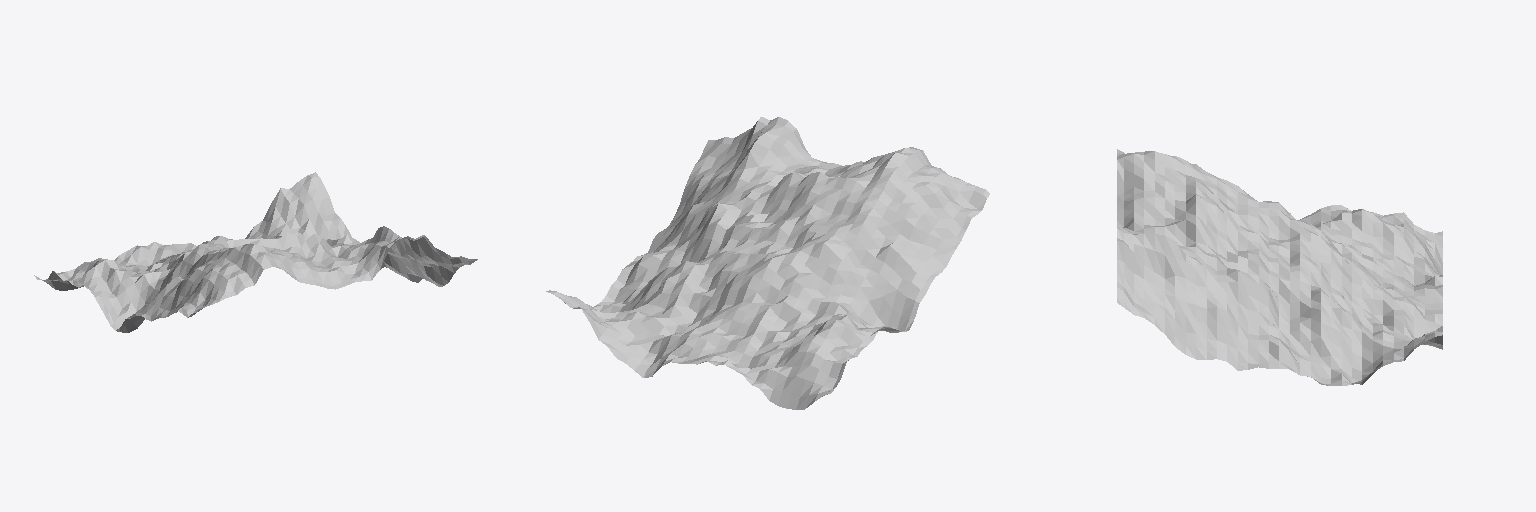
Rendered from terrain_0_-2.obj.
3 renders of one model, left to right at view 1: azimuth 30°, elevation 25°; view 2: azimuth 150°, elevation 25°; view 3: azimuth 270°, elevation 25°, orthographic.
Visible parts, largest first — view 1: terrain_0_-2_Plane.054; view 2: terrain_0_-2_Plane.054; view 3: terrain_0_-2_Plane.054.
Boxes of the visible parts, x1=… form: terrain_0_-2_Plane.054: x1=34, y1=172, x2=477, y2=332; terrain_0_-2_Plane.054: x1=546, y1=117, x2=989, y2=409; terrain_0_-2_Plane.054: x1=1117, y1=149, x2=1442, y2=385.
Bounding box in the file's own units: 32 × 15.91 × 32.